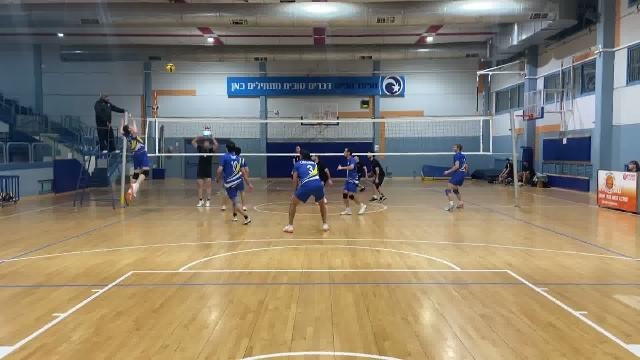ball: (163, 63, 179, 73)
